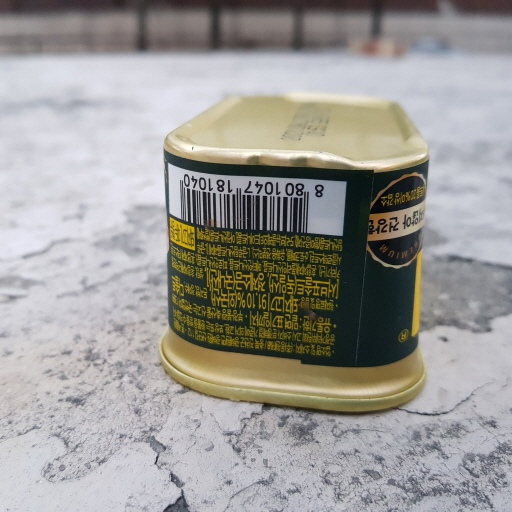Metal_2: (156, 88, 433, 415)
